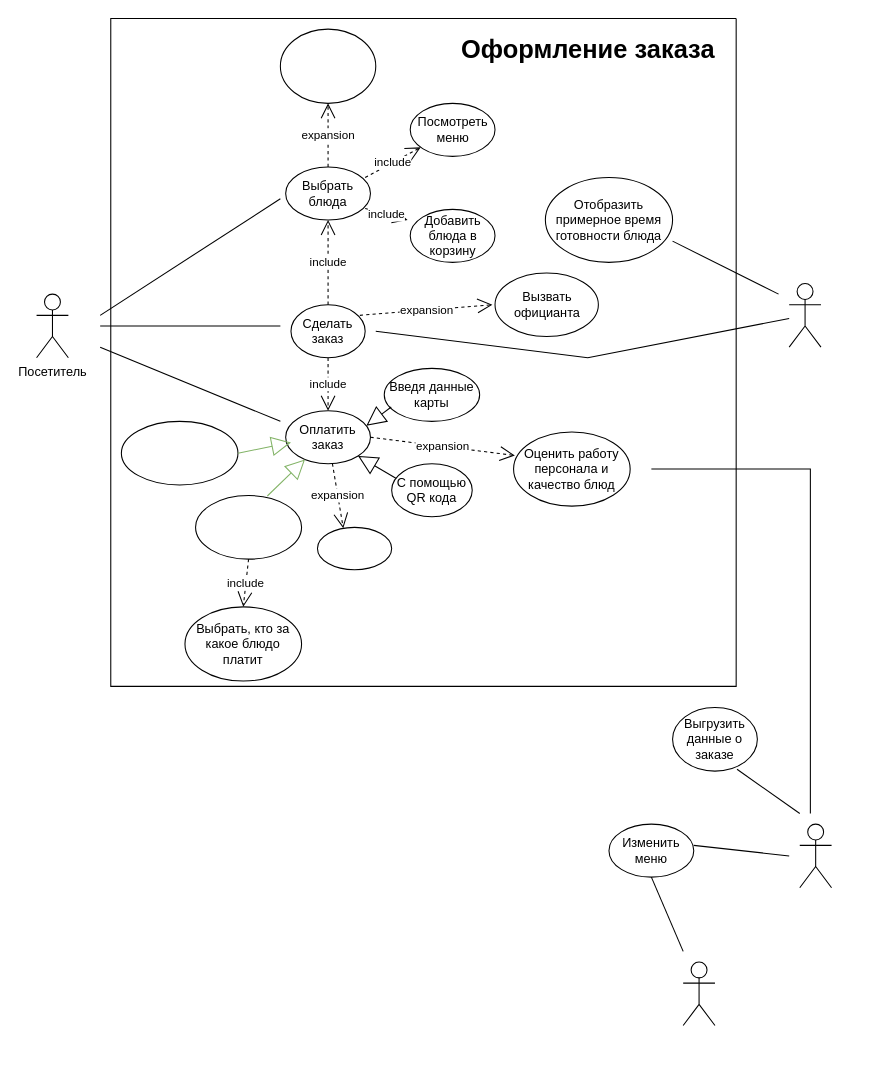
Image size: 881x1066. Some labels were removed from this diagram. Here are the shapes that lost their labels. From the top down, the centre of each, then its label:
At (327,65): "Выбрать порядок выноса блюд".
At (804,314): "Приложение".
At (179,452): "Оплатить самостоятельно".
At (248,526): "Разделить оплату с другим человеком".
At (354,548): "Дать чаевые".
At (815,855): "Администрация".
At (698,993): "Шеф повар".
